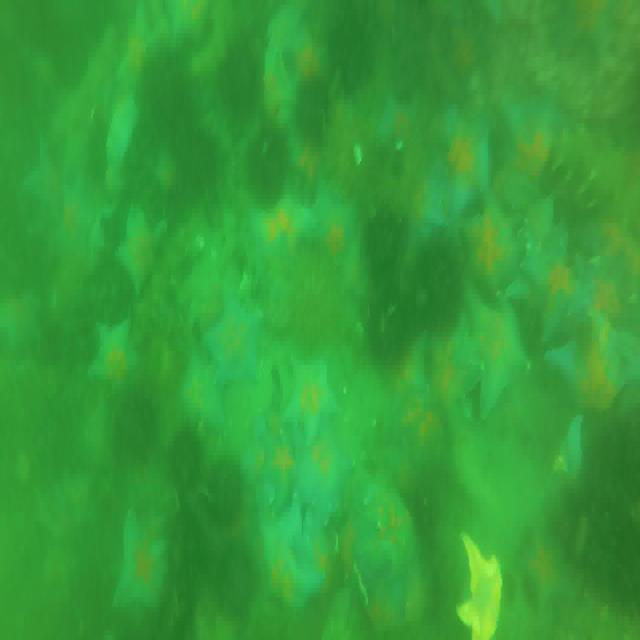echinus: (138, 38, 190, 128), (414, 243, 463, 338), (364, 291, 416, 365), (246, 124, 290, 205), (178, 122, 222, 196), (216, 32, 256, 112), (218, 544, 254, 632), (326, 23, 374, 88), (362, 212, 402, 284), (117, 396, 154, 464), (208, 461, 244, 524), (297, 81, 333, 142), (172, 430, 202, 476)
holothurian: (546, 123, 630, 205)
starfish: (546, 317, 640, 417), (350, 464, 417, 594), (519, 227, 591, 346), (462, 300, 532, 419), (264, 499, 324, 617), (114, 509, 169, 611), (438, 120, 495, 212), (464, 196, 519, 291), (203, 300, 261, 387), (520, 532, 580, 616), (298, 428, 352, 520), (459, 537, 506, 640), (282, 356, 336, 444), (504, 92, 547, 188), (82, 324, 139, 396), (253, 192, 307, 268), (39, 478, 99, 544), (301, 184, 357, 252), (117, 208, 159, 294), (406, 177, 447, 260), (257, 420, 296, 500), (102, 99, 136, 183), (389, 338, 429, 408), (557, 421, 587, 507), (60, 180, 92, 260), (24, 156, 61, 224), (5, 286, 42, 352), (284, 29, 328, 79), (182, 373, 220, 424), (384, 100, 414, 141)
